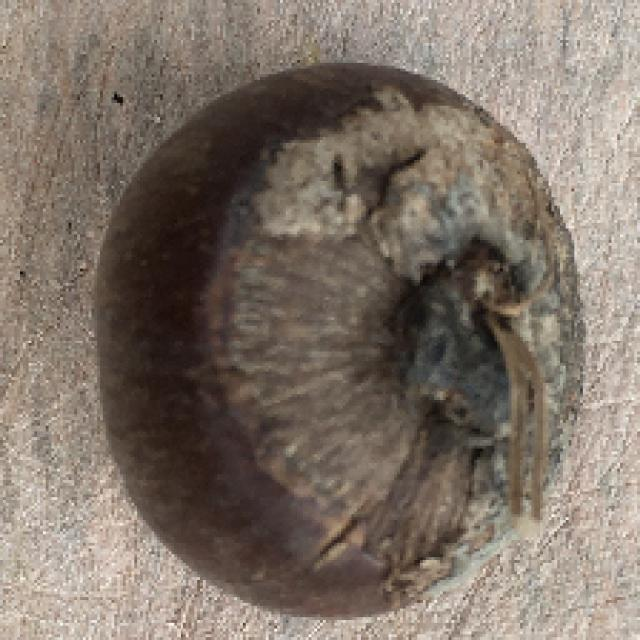damagedHazelnut: (97, 62, 595, 622)
